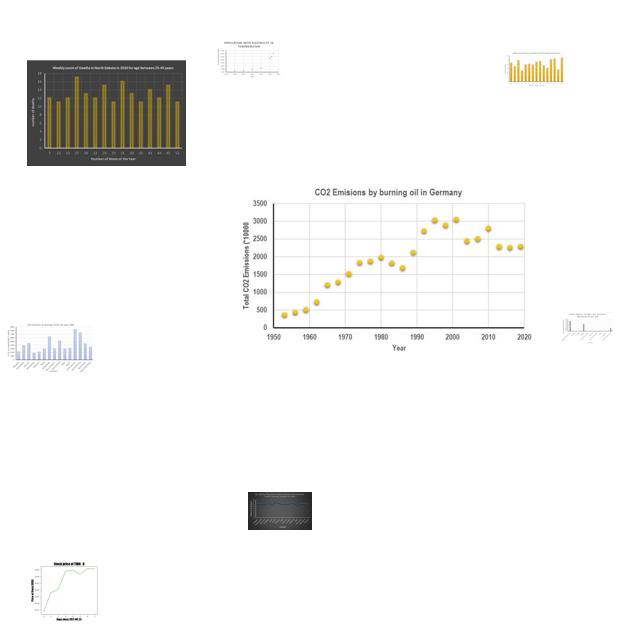Graph: (237, 182, 535, 357), (27, 60, 186, 166), (23, 559, 113, 621), (7, 323, 94, 373), (216, 40, 282, 80), (248, 492, 312, 530), (503, 51, 565, 88), (561, 312, 614, 345)
